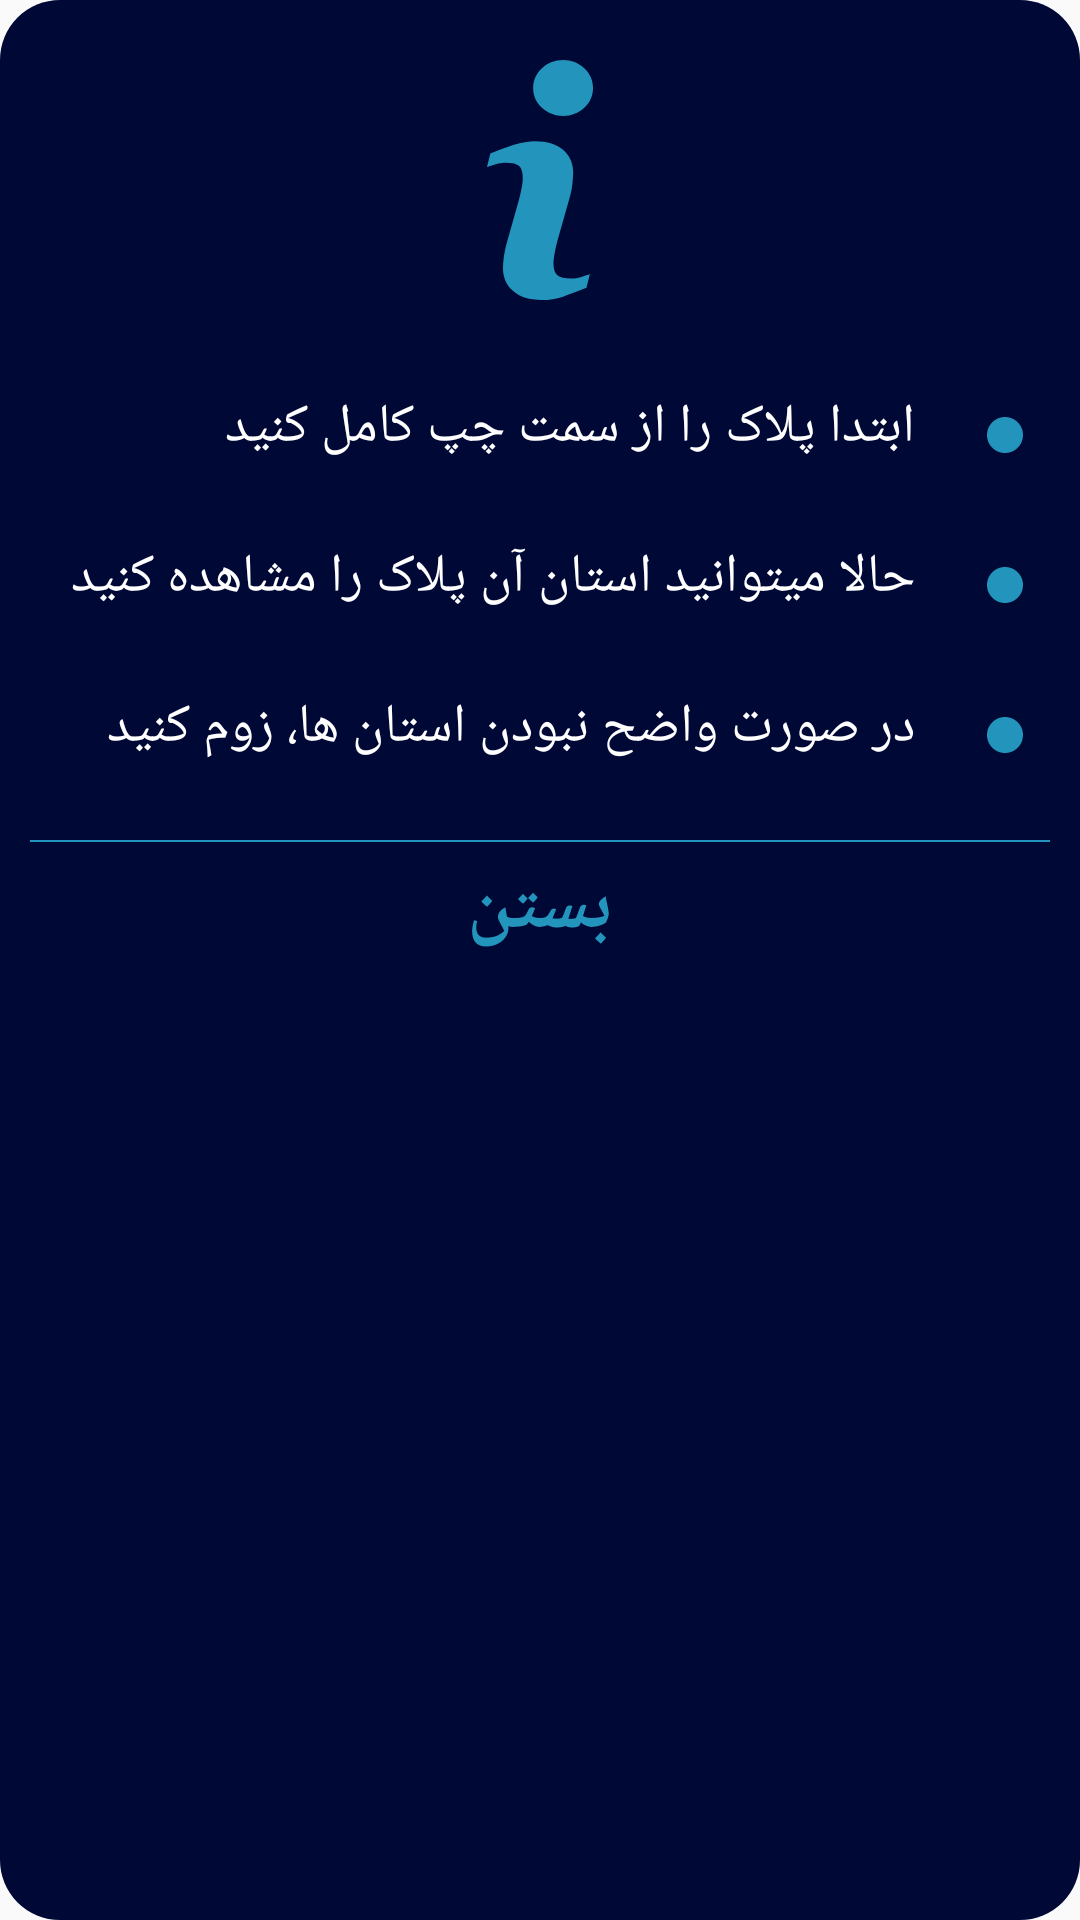

Named icons in this screenshot (1080 × 1920) and their centers, point (x, y):
info: point (540, 180)
